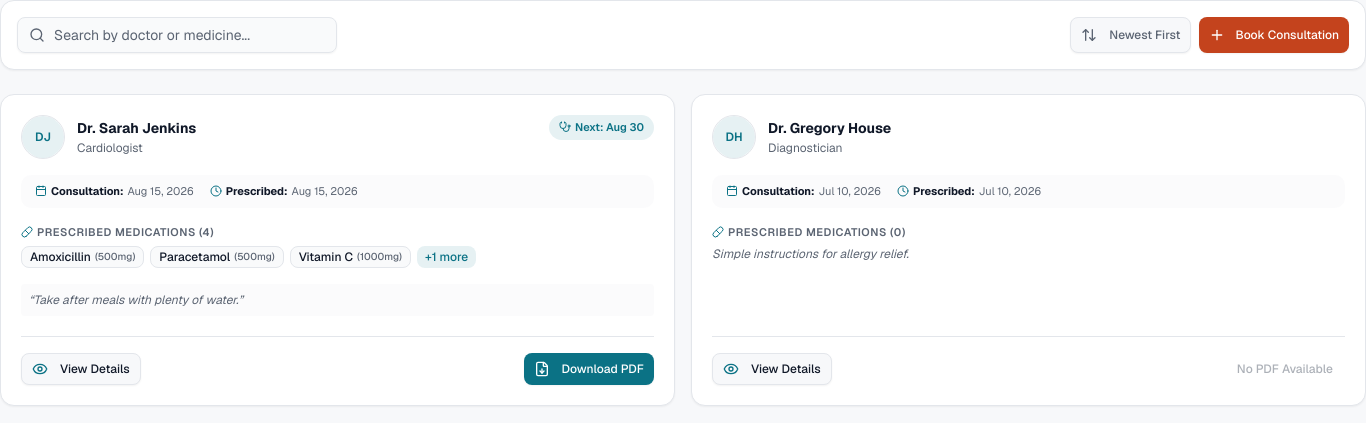
Test case: PatientPrescriptionsList › renders prescriptions list and allows filtering by doctor name
Check: the heading "Dr. Sarah Jenkins" is shown, box [77, 119, 196, 137]
Check: the heading "Dr. Gregory House" is shown, box [768, 119, 891, 137]
// Search for 'Jenkins'
Type "Jenkins" into the field with placeholder "Search by doctor or medicine...".
click(177, 35); type("Jenkins")  # box [17, 17, 337, 53]
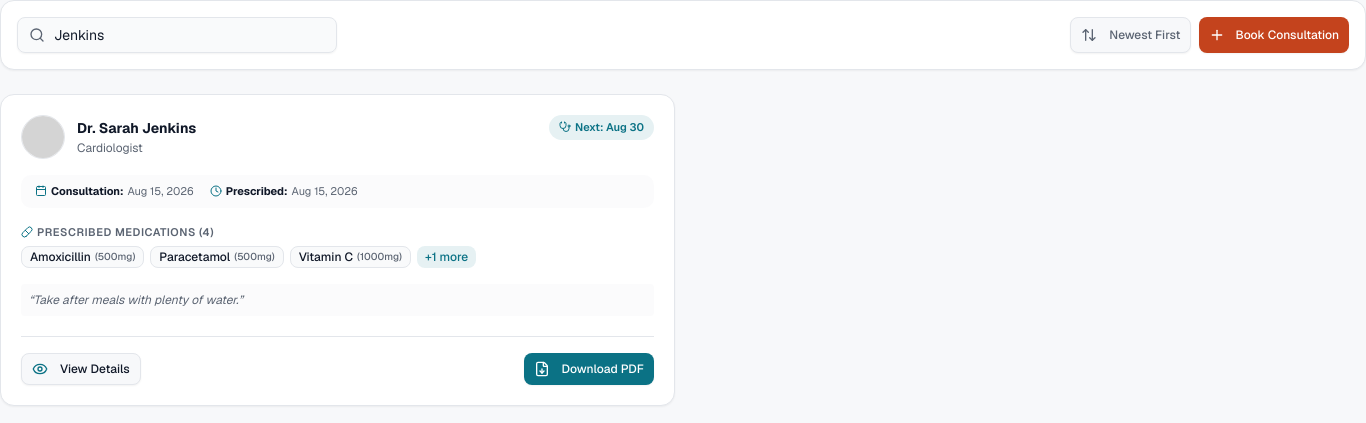
Check: the heading "Dr. Sarah Jenkins" is shown, box [77, 119, 196, 137]
Check: the heading "Dr. Gregory House" is gone
